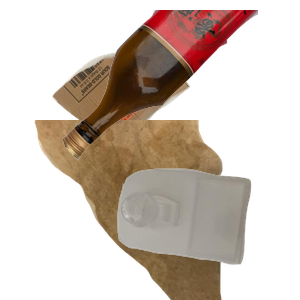cardboard: (50, 38, 233, 184)
glass: (60, 10, 300, 163)
plastic: (115, 166, 300, 300)
trash: (32, 120, 248, 300)
